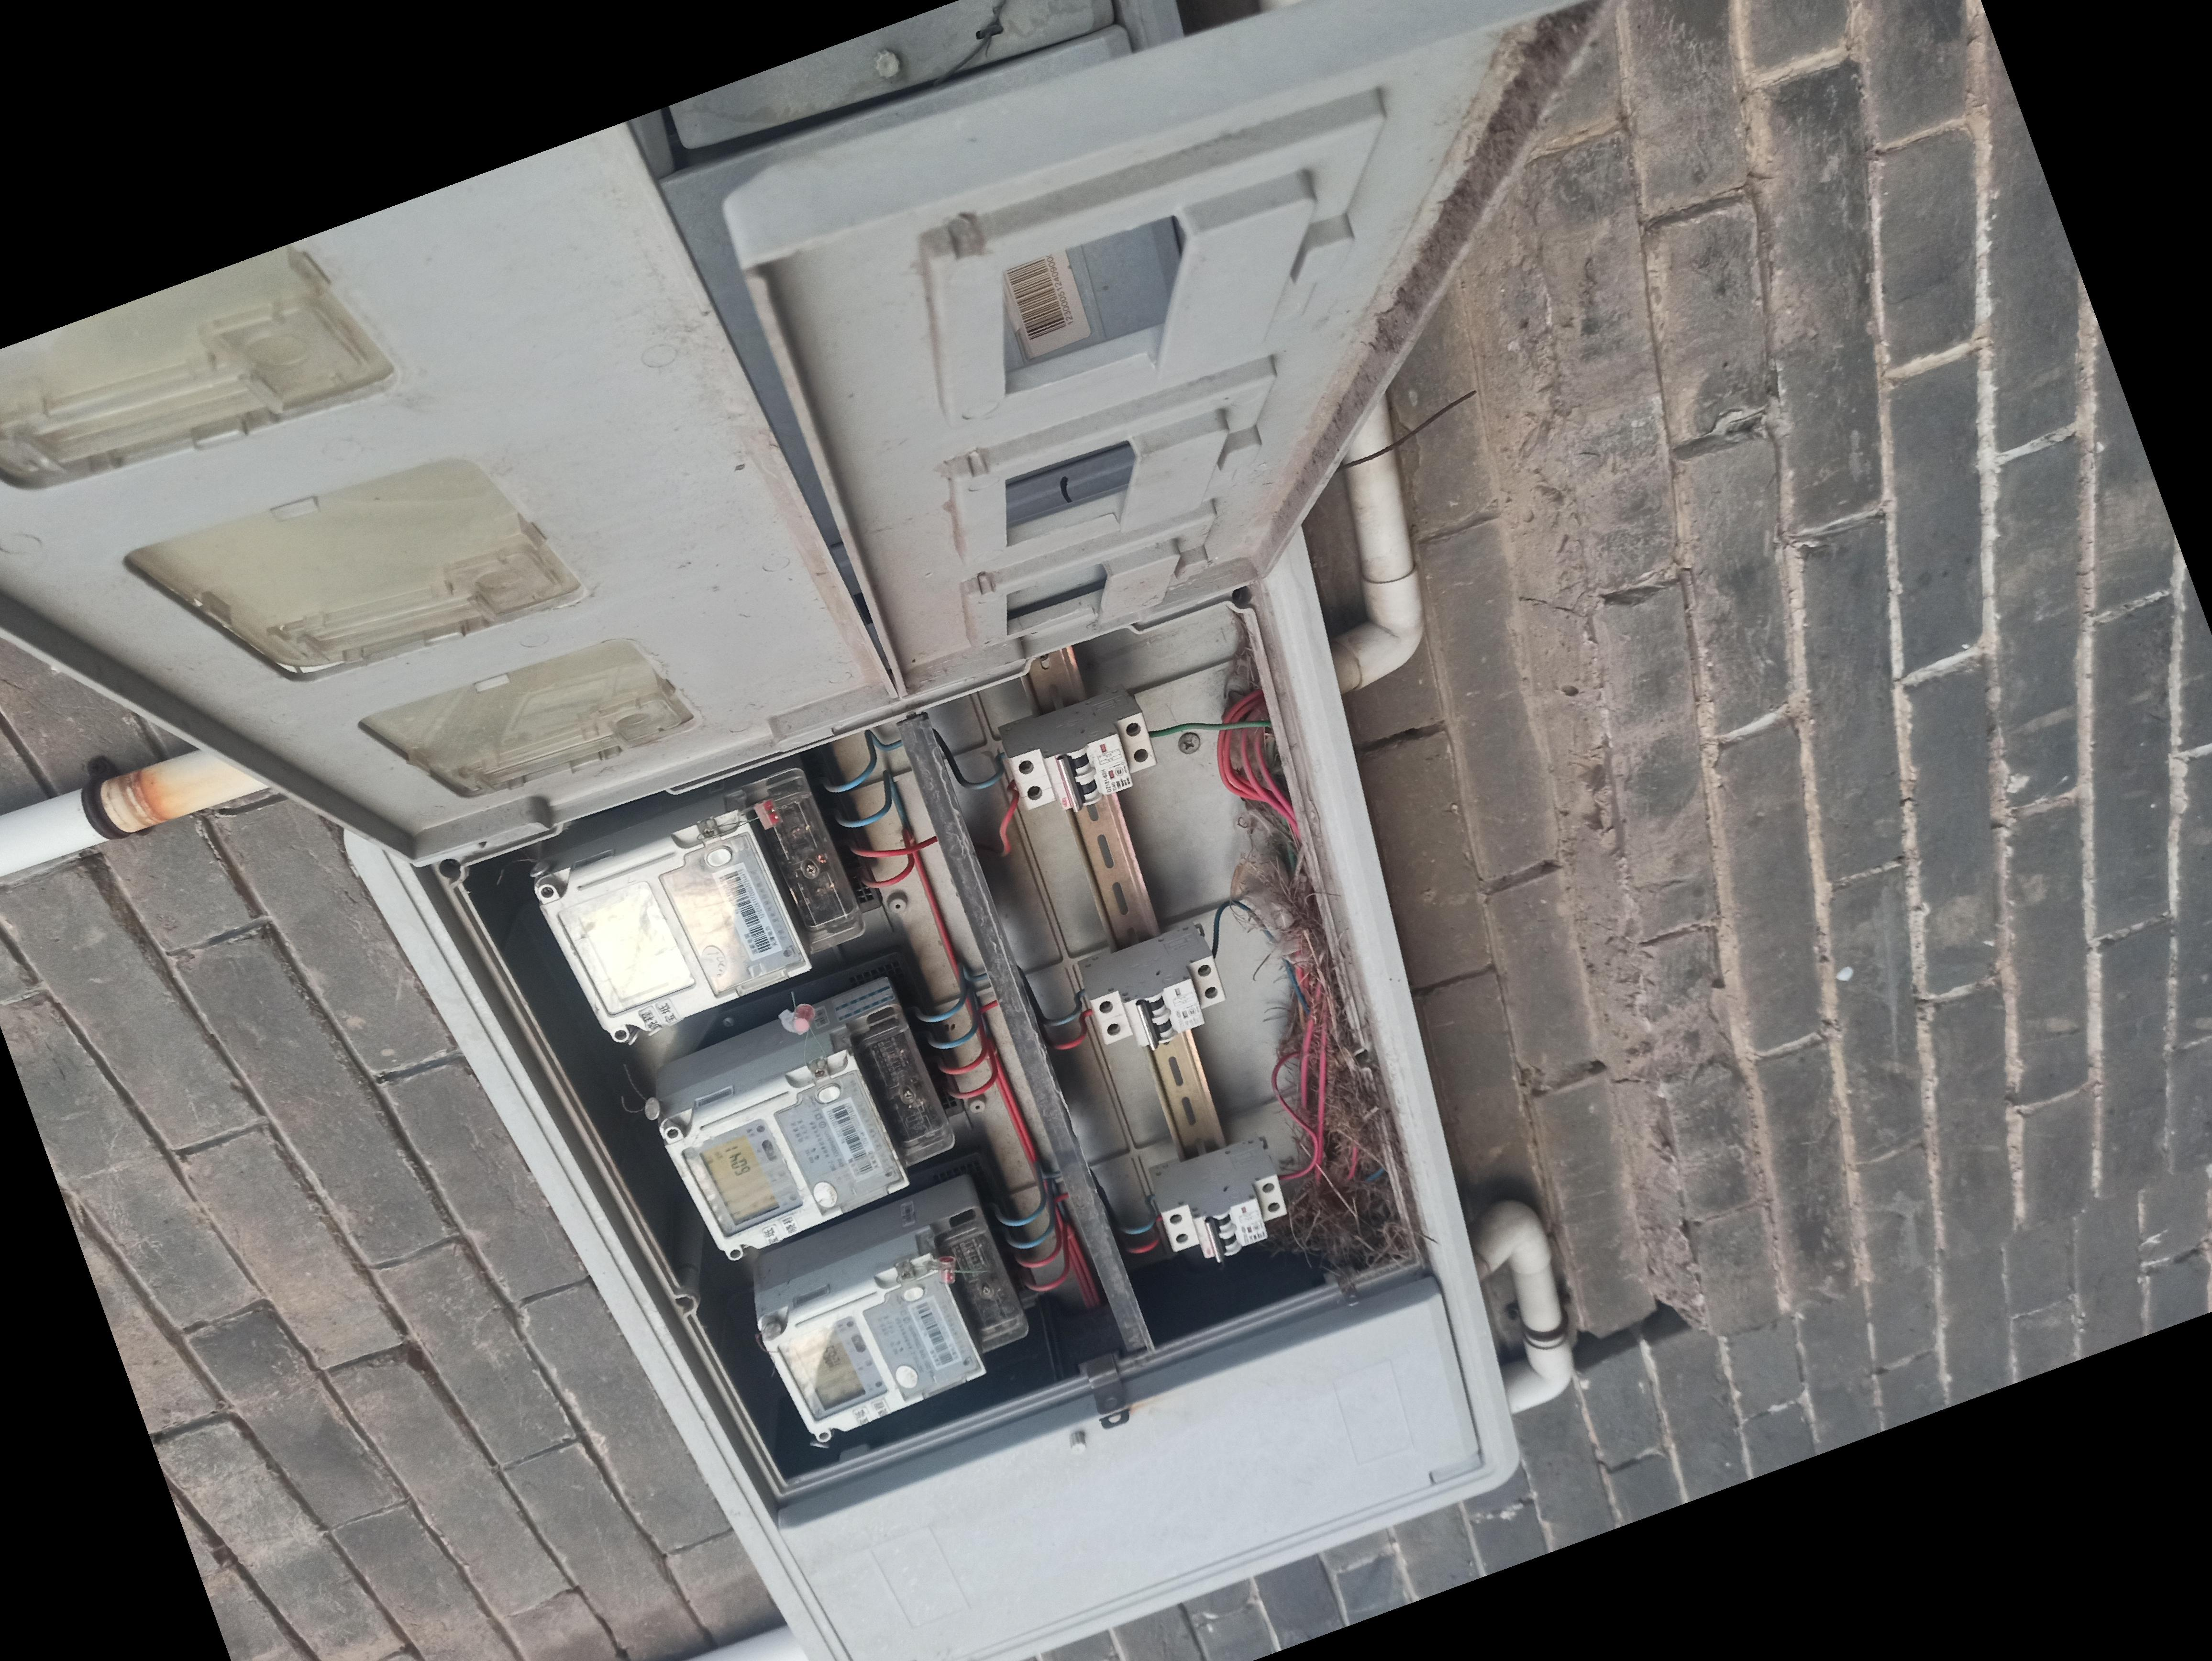digital: (534, 817, 809, 1042), (663, 1064, 907, 1253), (764, 1256, 989, 1434)
